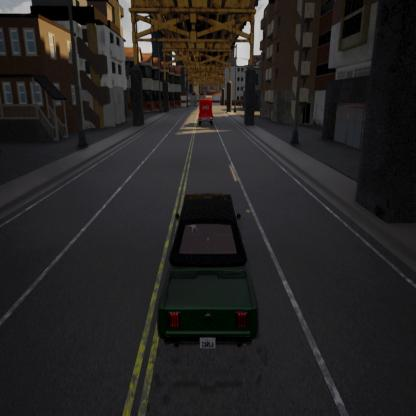Cars: (159, 189, 258, 348), (197, 97, 214, 127)
